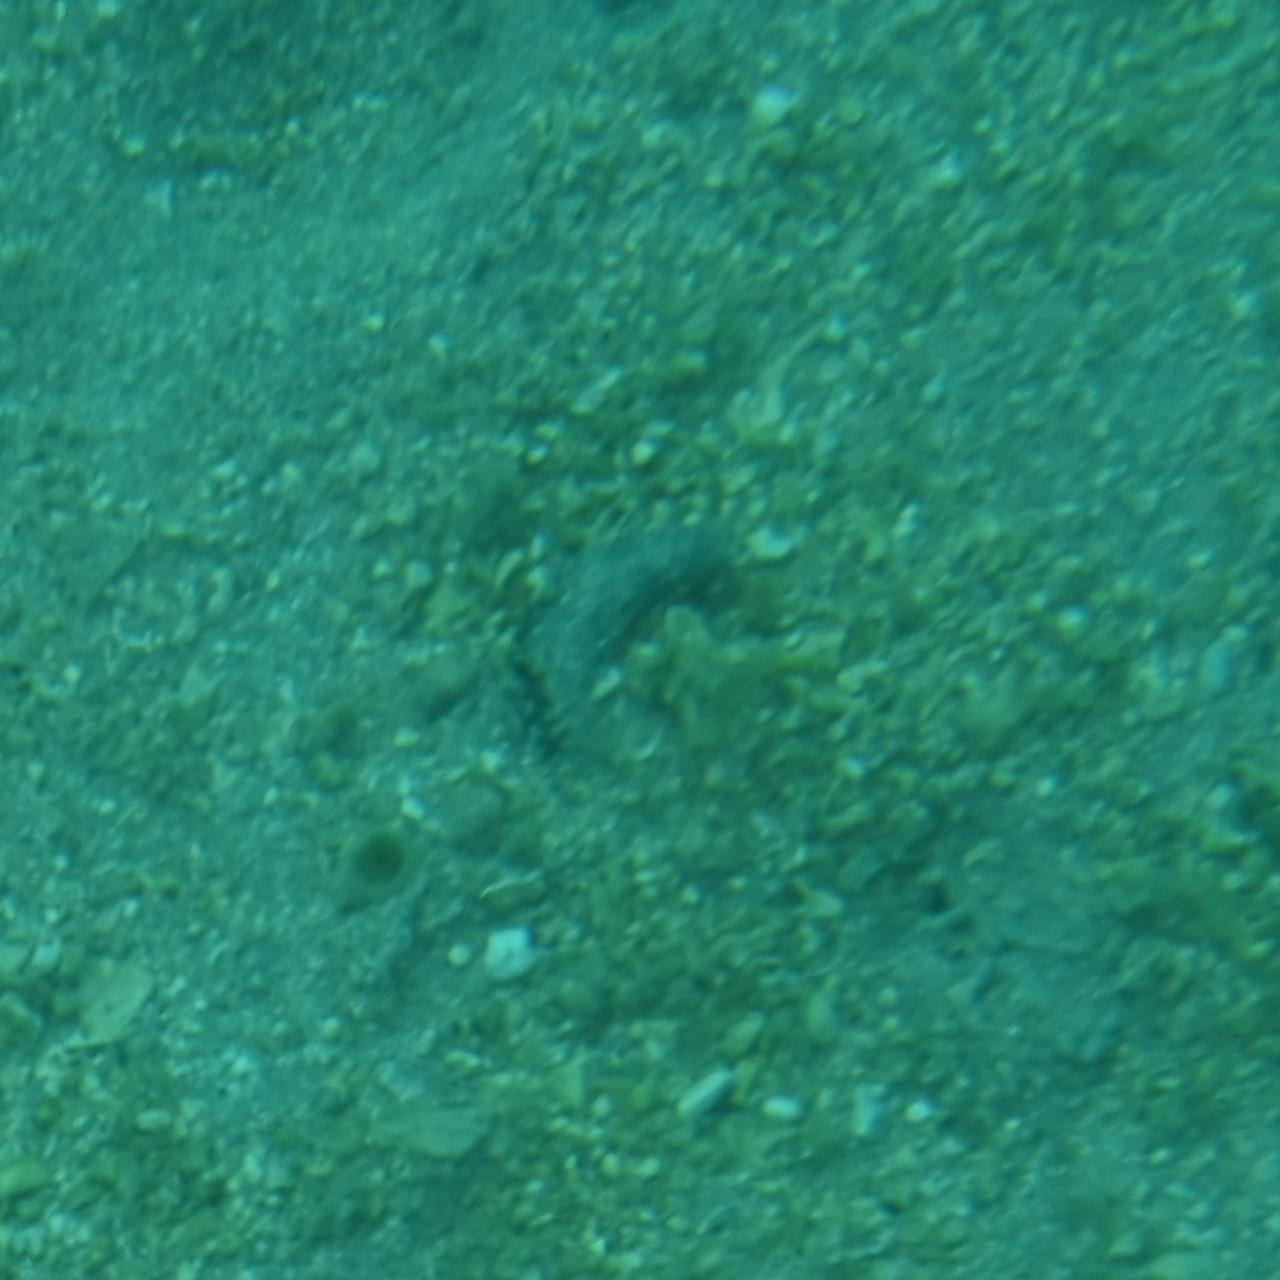Holothuria tubulosa: (520, 526, 760, 754)
